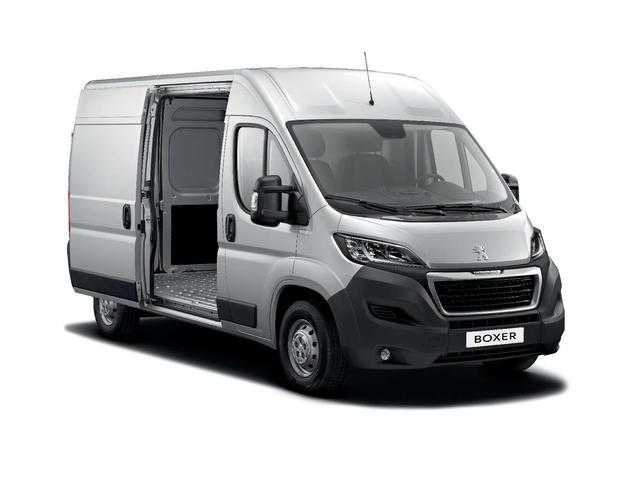van: (66, 66, 565, 395)
